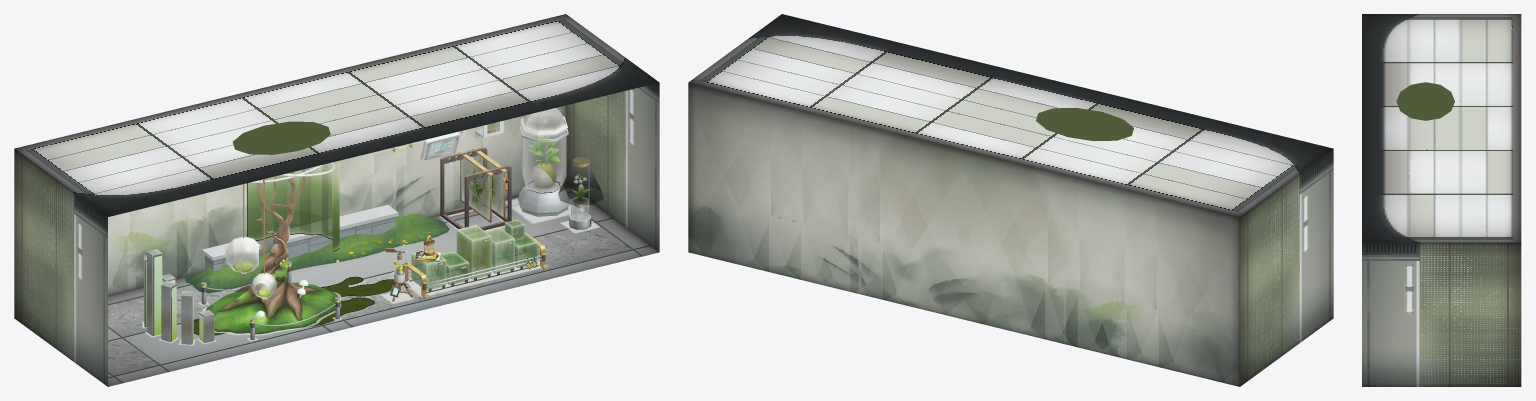
The model's file is cultureroom.glb.
3 views of the same model, side by side, from view 1: azimuth 30°, elevation 25°; view 2: azimuth 150°, elevation 25°; view 3: azimuth 270°, elevation 25° (orthographic). The views are drawn at different scales.
Visible parts, largest first — view 1: ROOM_room, ROOM_floor, furni_cultureroom_plant_01, furni_cultureroom_longbench_01, furni_cultureroom_plant_03, furni_cultureroom_floorlamp_01, furni_cultureroom_pottedplant_03, furni_cultureroom_floatingshelf_01, furni_cultureroom_pottedplant_01, furni_cultureroom_waterbox_01, furni_cultureroom_carpet_01, ROOM_LDoor (+14 smaller); view 2: ROOM_room, furni_cultureroom_plant_01, ROOM_LDoor; view 3: ROOM_room, ROOM_RDoor, furni_cultureroom_plant_01.
Boxes of the visible parts, left/top/right/bottom form: ROOM_room: left=14, top=14, right=659, bottom=386; ROOM_floor: left=108, top=184, right=659, bottom=386; furni_cultureroom_plant_01: left=201, top=121, right=340, bottom=340; furni_cultureroom_longbench_01: left=185, top=205, right=449, bottom=293; furni_cultureroom_plant_03: left=247, top=161, right=339, bottom=255; furni_cultureroom_floorlamp_01: left=144, top=249, right=214, bottom=344; furni_cultureroom_pottedplant_03: left=521, top=108, right=566, bottom=193; furni_cultureroom_floatingshelf_01: left=440, top=147, right=511, bottom=230; furni_cultureroom_pottedplant_01: left=518, top=116, right=570, bottom=216; furni_cultureroom_waterbox_01: left=403, top=233, right=548, bottom=298; furni_cultureroom_carpet_01: left=193, top=276, right=409, bottom=335; ROOM_LDoor: left=75, top=286, right=94, bottom=376; ROOM_room: left=688, top=14, right=1333, bottom=386; furni_cultureroom_plant_01: left=1036, top=108, right=1133, bottom=141; ROOM_LDoor: left=1300, top=251, right=1319, bottom=341; ROOM_room: left=1362, top=14, right=1521, bottom=386; ROOM_RDoor: left=1385, top=321, right=1418, bottom=386; furni_cultureroom_plant_01: left=1396, top=82, right=1454, bottom=120.
Size of the model in its own units: 7.49 by 2.2 by 2.21.
Materials: 9 (9 with a texture image).
